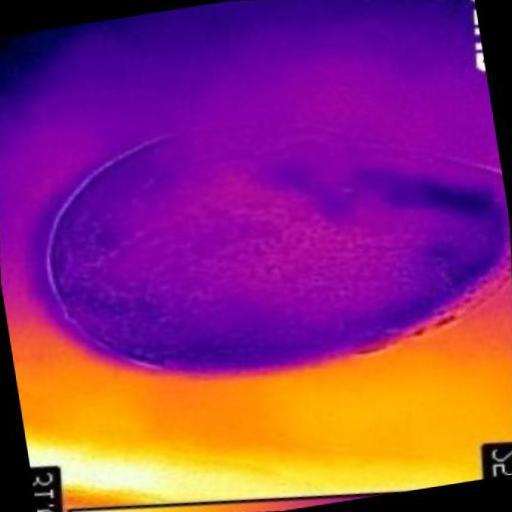alphanso: (35, 125, 505, 373)
